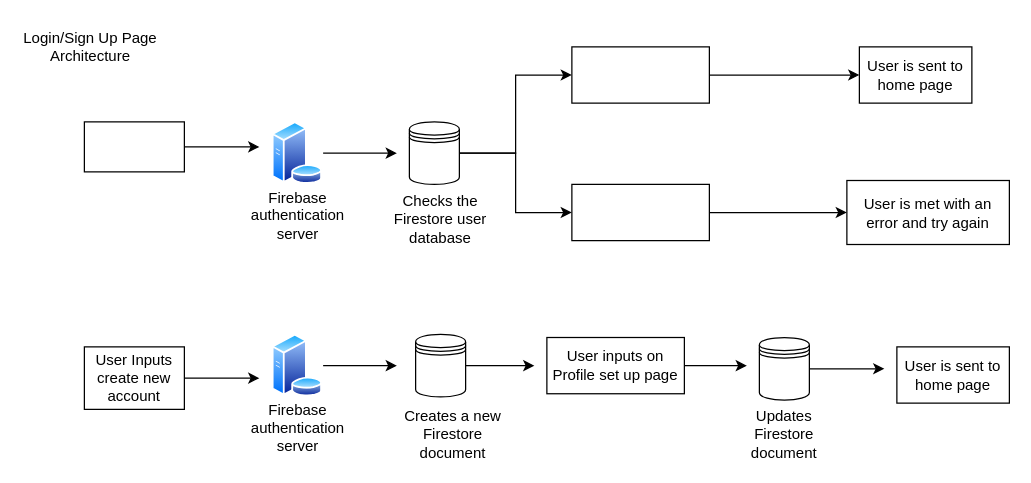
Image size: 1031x483. Some labels were removed from this diagram. The centre of each missing label's shape, as x and y in pixels:
"Successful User Authentication" goes at [640,74].
"Unsuccessful User Authentication" goes at [640,212].
"User Inputs Login" goes at [133,146].
